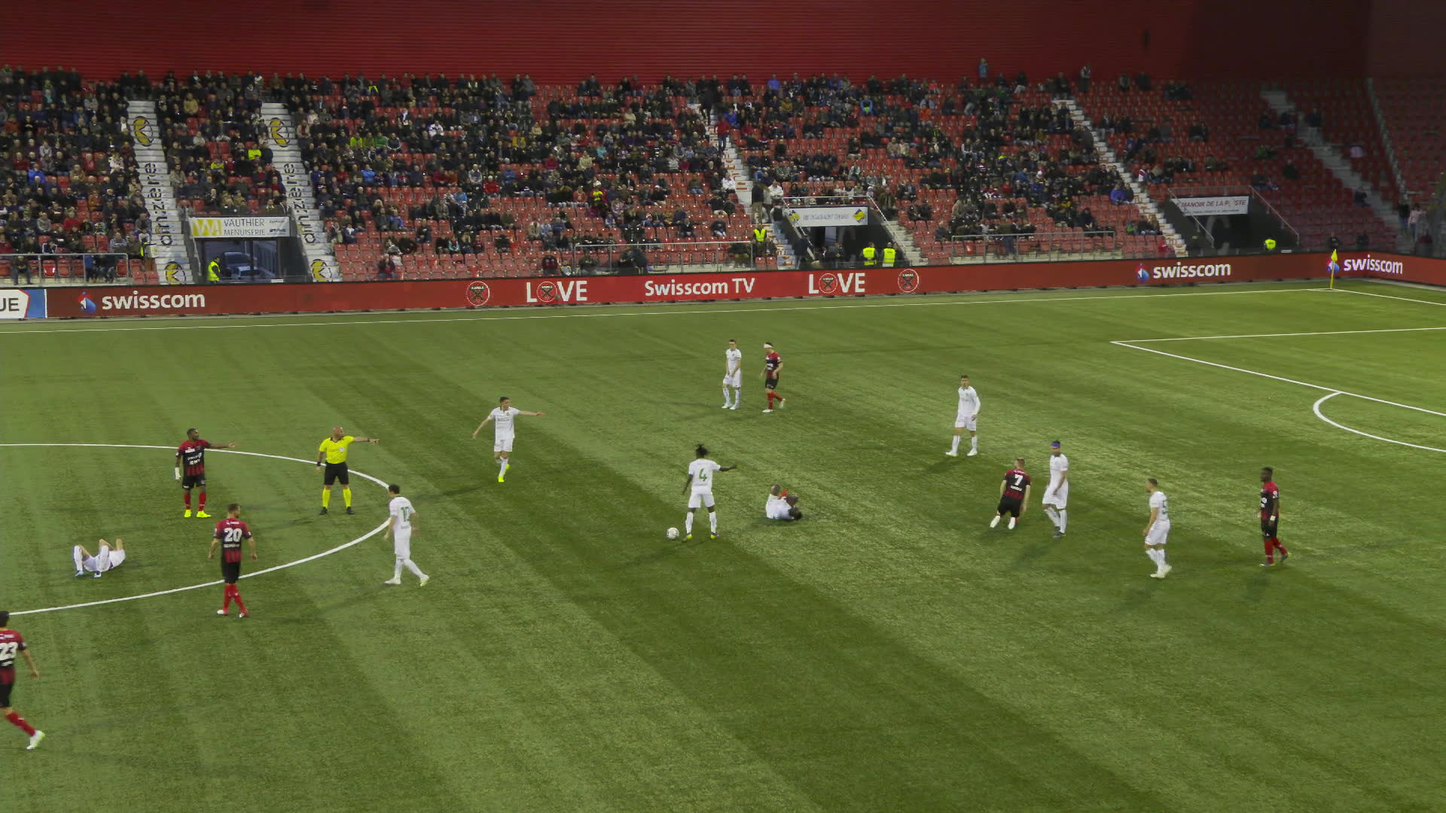ball: (667, 528, 678, 536)
player: (0, 611, 46, 750), (472, 396, 545, 483), (174, 426, 239, 518), (209, 502, 257, 618), (1132, 479, 1185, 579), (683, 443, 735, 541), (383, 483, 426, 586), (1252, 467, 1288, 567), (1038, 440, 1074, 538), (988, 457, 1031, 528), (950, 374, 981, 456), (73, 538, 127, 577), (758, 341, 786, 413), (717, 340, 743, 410), (763, 484, 806, 519)
referee: (316, 425, 380, 514)
